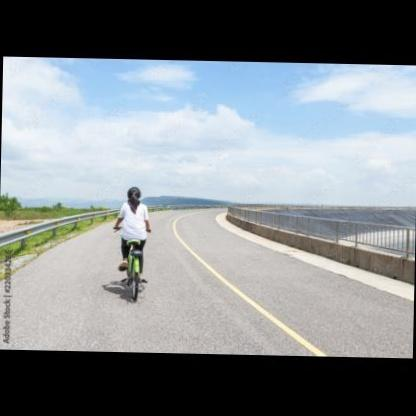Bicycle: (110, 222, 165, 308)
